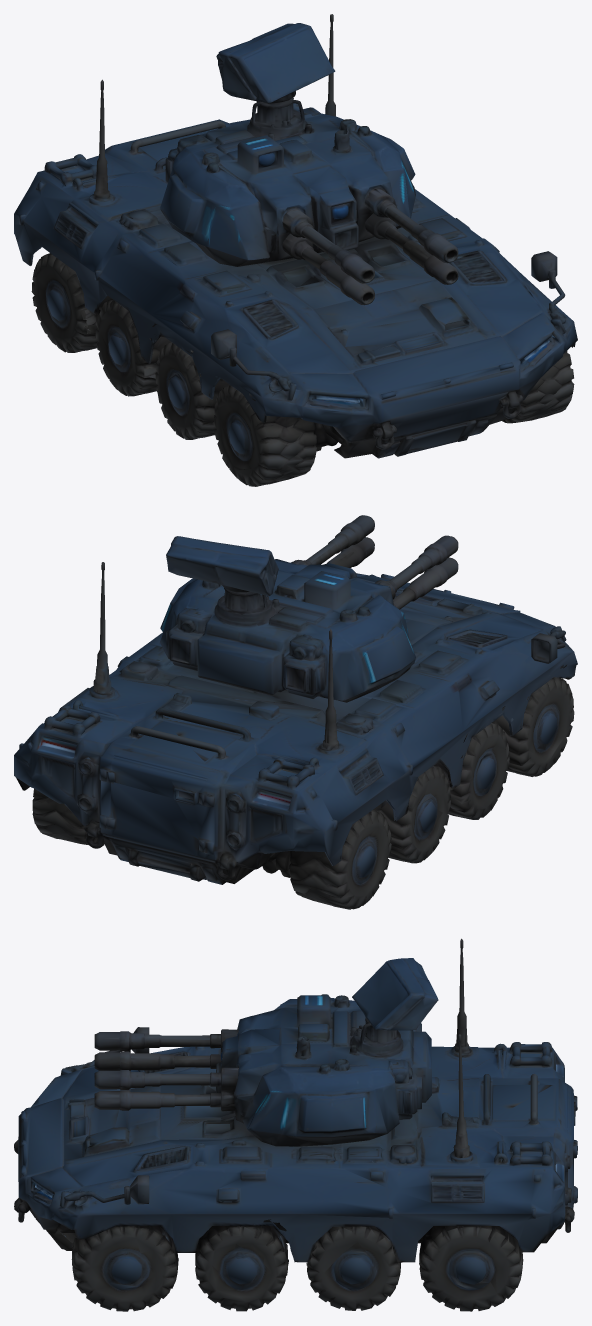
Rendered from A40_WATCHTOWER_LOD1.fbx.
The picture shows the model from 3 angles, top to bottom: view 1: azimuth 30°, elevation 25°; view 2: azimuth 150°, elevation 25°; view 3: azimuth 270°, elevation 25°; orthographic projection. The views are drawn at different scales.
Visible parts, largest first — view 1: Hull_LOD1, TurretArmor_LOD1, Wheel_L_Front_LOD1, RadarArray_LOD1, Wheel_L_Rear_LOD1, Wheel_L_MidFront_LOD1, Wheel_L_MidRear_LOD1, Wheel_R_Front_LOD1, Barrel_Upper_R_LOD1, Barrel_Upper_L_LOD1, Barrel_Lower_R_LOD1, Barrel_Lower_L_LOD1; view 2: Hull_LOD1, TurretArmor_LOD1, Wheel_L_Rear_LOD1, Wheel_L_Front_LOD1, RadarArray_LOD1, Wheel_L_MidRear_LOD1, Wheel_L_MidFront_LOD1, Wheel_R_Rear_LOD1, Barrel_Upper_L_LOD1, Barrel_Upper_R_LOD1, Barrel_Lower_L_LOD1, Barrel_Lower_R_LOD1; view 3: Hull_LOD1, TurretArmor_LOD1, Wheel_R_Rear_LOD1, Wheel_R_Front_LOD1, Wheel_R_MidFront_LOD1, Wheel_R_MidRear_LOD1, RadarArray_LOD1, Barrel_Upper_L_LOD1, Barrel_Upper_R_LOD1, Barrel_Lower_R_LOD1, Barrel_Lower_L_LOD1.
Boxes of the visible parts, x1,y1,x2,y2 form: Hull_LOD1: (14, 14, 577, 458); TurretArmor_LOD1: (160, 98, 415, 266); Wheel_L_Front_LOD1: (211, 376, 327, 486); RadarArray_LOD1: (216, 23, 335, 114); Wheel_L_Rear_LOD1: (30, 246, 111, 352); Wheel_L_MidFront_LOD1: (149, 334, 229, 439); Wheel_L_MidRear_LOD1: (95, 295, 171, 396); Wheel_R_Front_LOD1: (502, 351, 574, 423); Barrel_Upper_R_LOD1: (385, 206, 458, 263); Barrel_Upper_L_LOD1: (302, 226, 374, 283); Barrel_Lower_R_LOD1: (403, 240, 458, 284); Barrel_Lower_L_LOD1: (319, 260, 374, 305); Hull_LOD1: (14, 561, 577, 884); TurretArmor_LOD1: (160, 559, 415, 702); Wheel_L_Rear_LOD1: (272, 809, 391, 909); Wheel_L_Front_LOD1: (492, 668, 574, 776); RadarArray_LOD1: (166, 536, 278, 601); Wheel_L_MidRear_LOD1: (374, 761, 453, 863); Wheel_L_MidFront_LOD1: (434, 714, 512, 819); Wheel_R_Rear_LOD1: (32, 788, 97, 844); Barrel_Upper_L_LOD1: (389, 535, 458, 589); Barrel_Upper_R_LOD1: (306, 515, 374, 564); Barrel_Lower_L_LOD1: (403, 557, 458, 601); Barrel_Lower_R_LOD1: (327, 537, 374, 568); Hull_LOD1: (14, 938, 577, 1262); TurretArmor_LOD1: (209, 994, 431, 1146); Wheel_R_Rear_LOD1: (419, 1226, 523, 1311); Wheel_R_Front_LOD1: (71, 1226, 178, 1311); Wheel_R_MidFront_LOD1: (195, 1222, 298, 1311); Wheel_R_MidRear_LOD1: (306, 1226, 400, 1310); RadarArray_LOD1: (352, 958, 438, 1030); Barrel_Upper_L_LOD1: (94, 1031, 209, 1051); Barrel_Upper_R_LOD1: (94, 1070, 209, 1089); Barrel_Lower_R_LOD1: (94, 1090, 174, 1110); Barrel_Lower_L_LOD1: (94, 1051, 174, 1070).
Bounding box in the file's own units: 4.7 × 3.88 × 7.1.
1 material, 1 textured.
